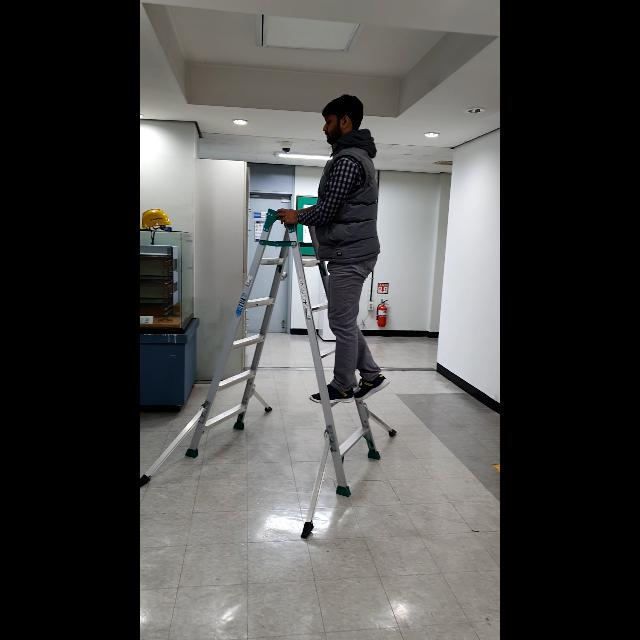boots: (140, 204, 404, 544)
vest: (268, 93, 389, 407)
